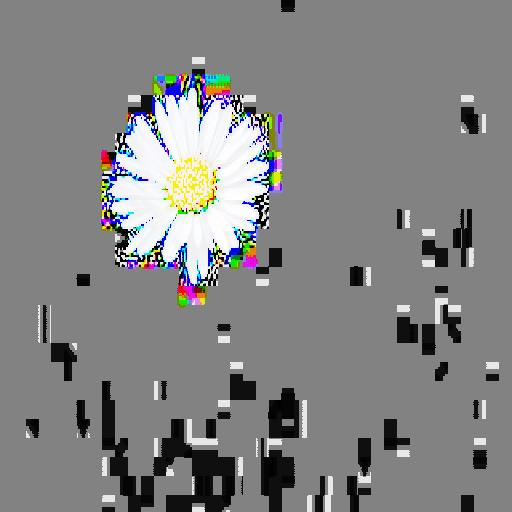daisy: (117, 102, 264, 267)
